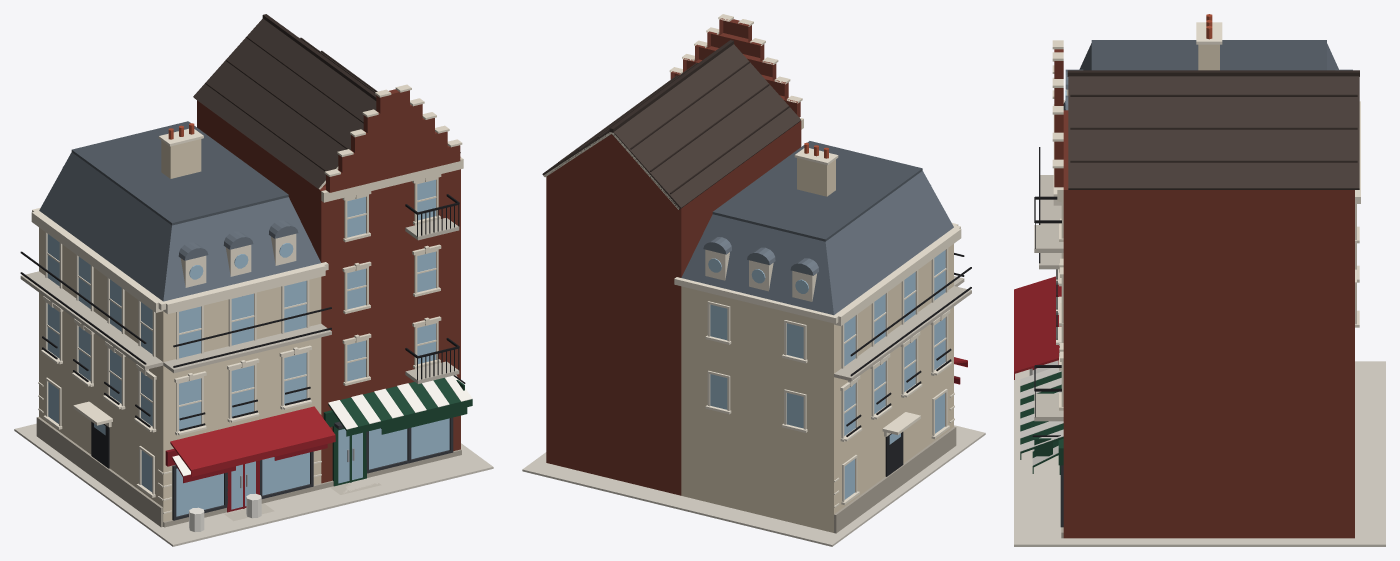
Rendered from Dukkan_cadde_eski_Hafif.fbx.
3 renders of one model, left to right at view 1: azimuth 30°, elevation 25°; view 2: azimuth 150°, elevation 25°; view 3: azimuth 270°, elevation 25°, orthographic. The views are drawn at different scales.
Visible parts, largest first — view 1: Dukkan_cadde_eski_Hafif; view 2: Dukkan_cadde_eski_Hafif; view 3: Dukkan_cadde_eski_Hafif.
Boxes of the visible parts, left/top/right/bottom form: Dukkan_cadde_eski_Hafif: left=14, top=14, right=493, bottom=546; Dukkan_cadde_eski_Hafif: left=522, top=14, right=985, bottom=546; Dukkan_cadde_eski_Hafif: left=1014, top=14, right=1385, bottom=546.
Size of the model in its own units: 14.3 by 16.1 by 12.
